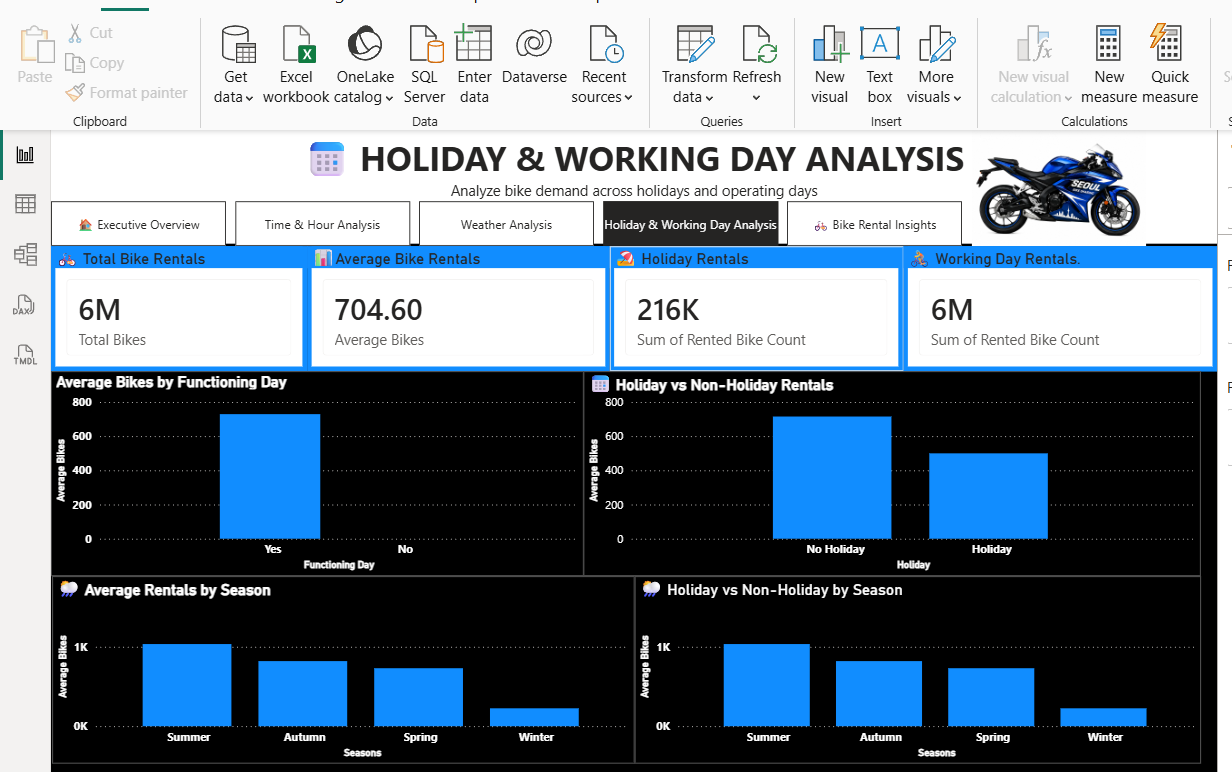

Layout of this report page (visuals, bound fields, positions):
{"tool":"powerbi","page":{"name":"Holiday & Working Day Analysis","canvas":[1280,720],"ordinal":3},"visuals":[{"type":"textbox","box":[0,0,1280.3,124.9],"z":0},{"type":"image","box":[950.9,0,311.5,127.6],"z":1000},{"type":"cardVisual","title":" 📊Average Bike Rentals","fields":{"Data":["SeoulBikeData.Average Bikes"]},"box":[281.3,127.6,332.1,137.2],"z":2000},{"type":"cardVisual","title":"🏖️ Holiday Rentals","fields":{"Data":["Sum(SeoulBikeData.Rented Bike Count)"]},"box":[613.4,127.6,322.5,137.2],"z":3000},{"type":"cardVisual","title":"🚴 Working Day Rentals.","fields":{"Data":["Sum(SeoulBikeData.Rented Bike Count)"]},"box":[935.6,127.6,344.4,137.2],"z":4000},{"type":"cardVisual","title":"🚲 Total Bike Rentals","fields":{"Data":["SeoulBikeData.Total Bikes"]},"box":[0,127.6,281.3,137.2],"z":5000},{"type":"lineClusteredColumnComboChart","fields":{"Category":["SeoulBikeData.Functioning Day"],"Y":["SeoulBikeData.Average Bikes"]},"box":[0,264.8,584.6,225],"z":6000},{"type":"lineClusteredColumnComboChart","title":"📅 Holiday vs Non-Holiday Rentals","fields":{"Category":["SeoulBikeData.Holiday"],"Y":["SeoulBikeData.Average Bikes"]},"box":[584.6,264.8,677.9,225],"z":7000},{"type":"lineClusteredColumnComboChart","title":"🌦️ Average Rentals by Season","fields":{"Category":["SeoulBikeData.Seasons"],"Y":["SeoulBikeData.Average Bikes"]},"box":[1.4,489.9,639.5,205.8],"z":8000},{"type":"lineClusteredColumnComboChart","title":"🌦️ Holiday vs Non-Holiday by Season","fields":{"Category":["SeoulBikeData.Seasons"],"Y":["SeoulBikeData.Average Bikes"]},"box":[640.8,489.9,621.6,205.8],"z":9000},{"type":"pageNavigator","box":[0,78.2,1000.3,49.4],"z":9001}]}

Visuals, with their boxes on the page's 1280x720 design canvas (x1, y1, x2, y2). These are canvas units, not pixel positions in the 1232x772 screenshot, which may show the page scaled, cropped or inside an application window:
textbox: box(0, 0, 1280, 125)
image: box(951, 0, 1262, 128)
" 📊Average Bike Rentals" cardVisual: box(281, 128, 613, 265)
"🏖️ Holiday Rentals" cardVisual: box(613, 128, 936, 265)
"🚴 Working Day Rentals." cardVisual: box(936, 128, 1280, 265)
"🚲 Total Bike Rentals" cardVisual: box(0, 128, 281, 265)
lineClusteredColumnComboChart - SeoulBikeData.Functioning Day x SeoulBikeData.Average Bikes: box(0, 265, 585, 490)
"📅 Holiday vs Non-Holiday Rentals" lineClusteredColumnComboChart: box(585, 265, 1262, 490)
"🌦️ Average Rentals by Season" lineClusteredColumnComboChart: box(1, 490, 641, 696)
"🌦️ Holiday vs Non-Holiday by Season" lineClusteredColumnComboChart: box(641, 490, 1262, 696)
pageNavigator: box(0, 78, 1000, 128)
